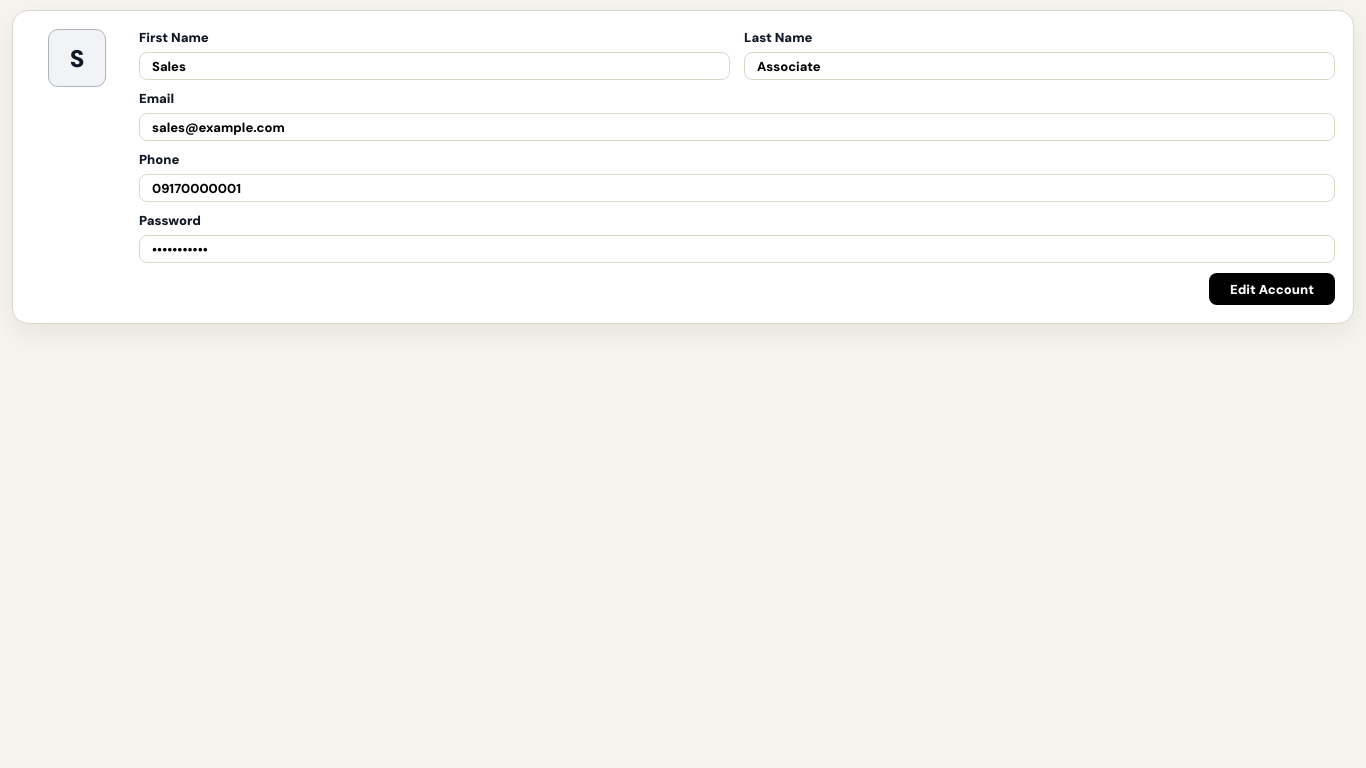
Sales Associate Staff Profile parity › rejects invalid phone inline without browser alerts
Click the button "Edit Account" at coordinates (1272, 289), box left=1209, top=273, right=1335, bottom=305
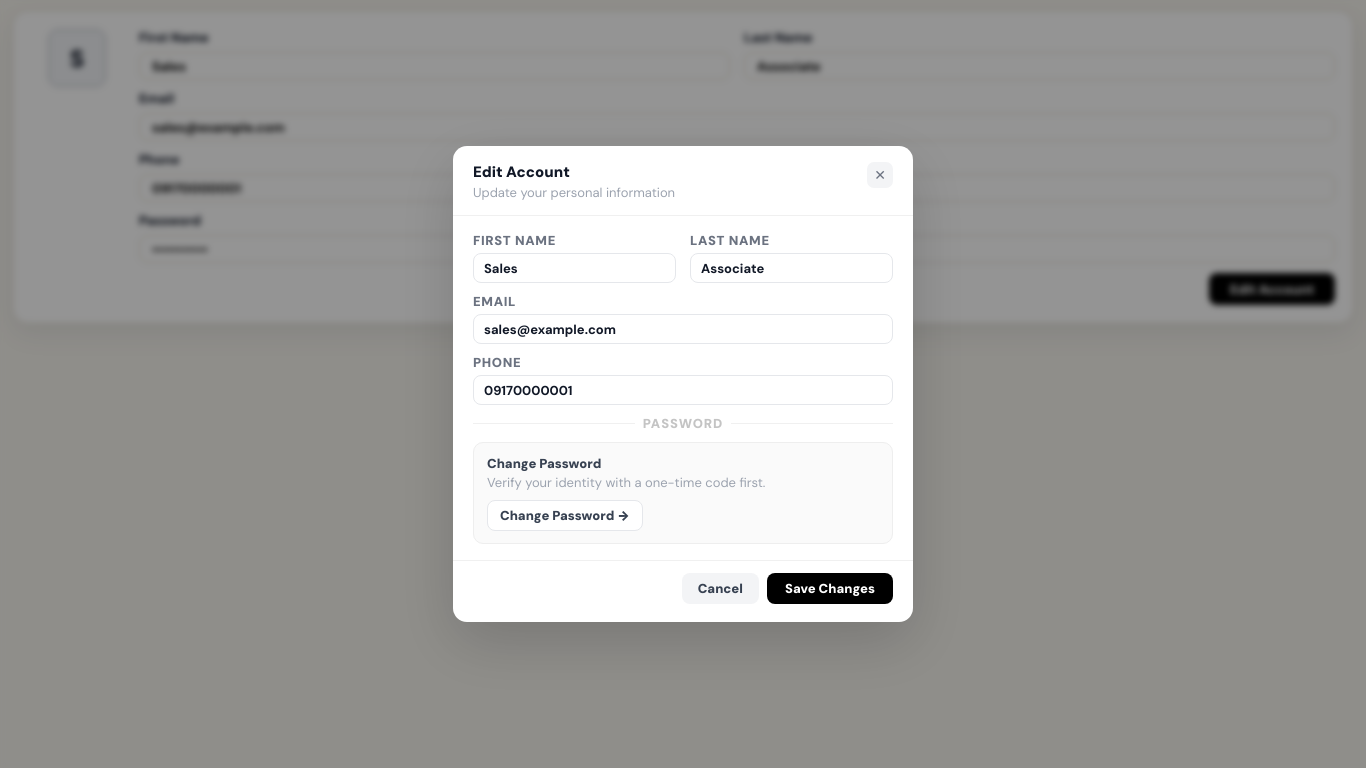
Replace the text in the field named "Edit phone" with "0917" at coordinates (683, 390), box left=473, top=375, right=893, bottom=405
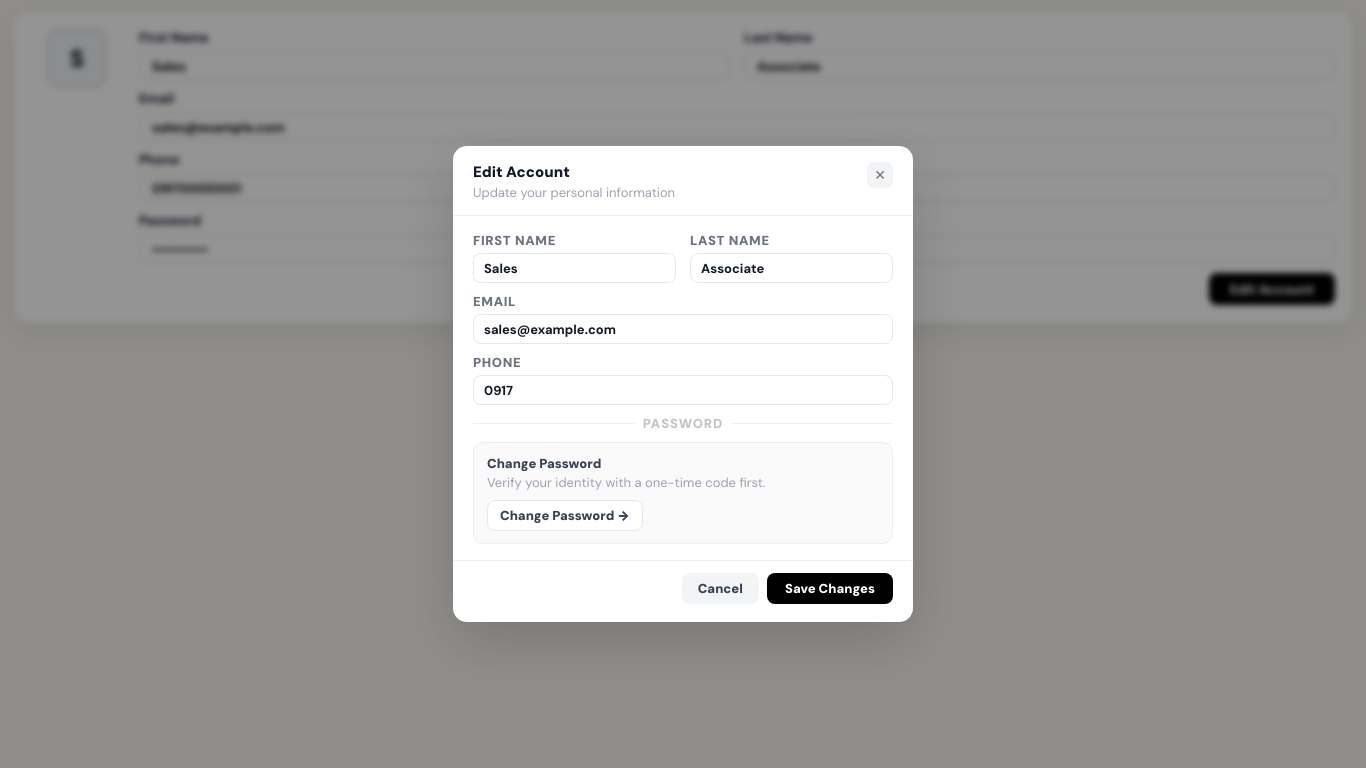
Click the button "Save Changes" at coordinates (830, 588), box left=767, top=573, right=893, bottom=604
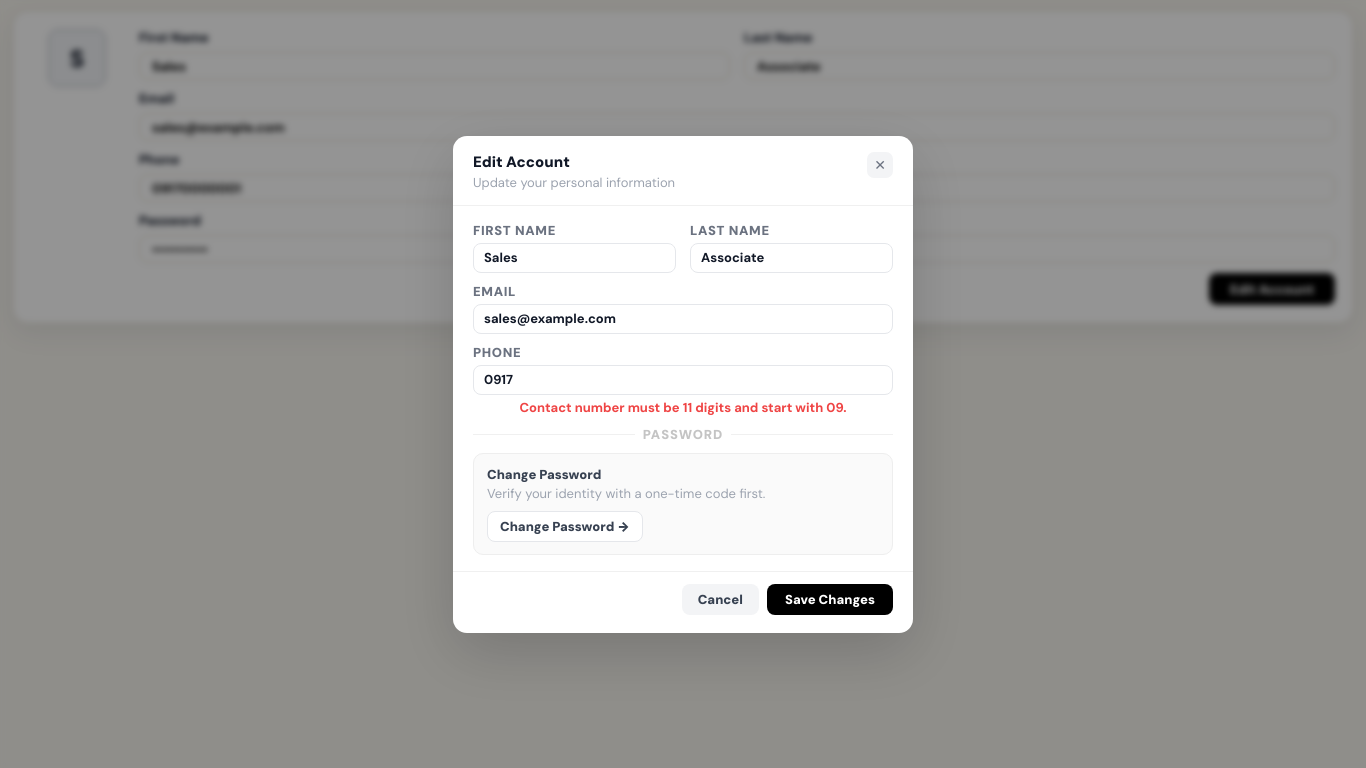
Check: the text "Contact number must be 11 digits and start with 09." is shown, box left=519, top=398, right=847, bottom=416
